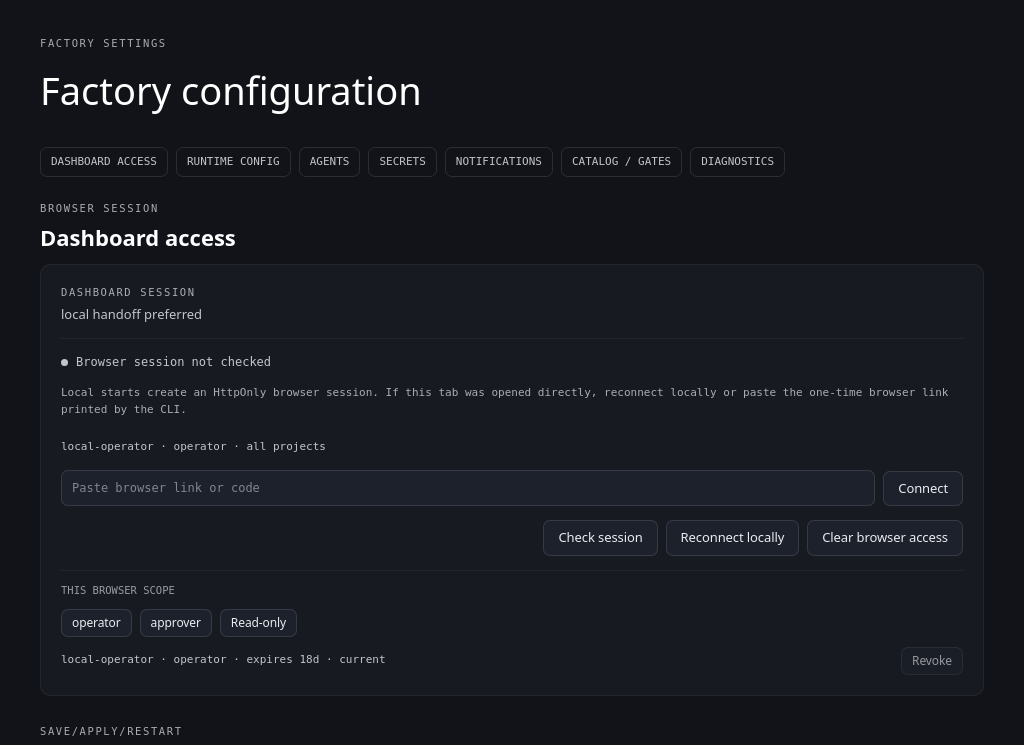
Test: Settings API access › connects from Settings with a one-time browser link
The width and height of the screenshot is (1024, 745).
Type "http://127.0.0.1:4173/welcome?pair=pair-code" into the field with test id "dashboard-pairing-code" at point(468, 488), box [61,470,875,506]
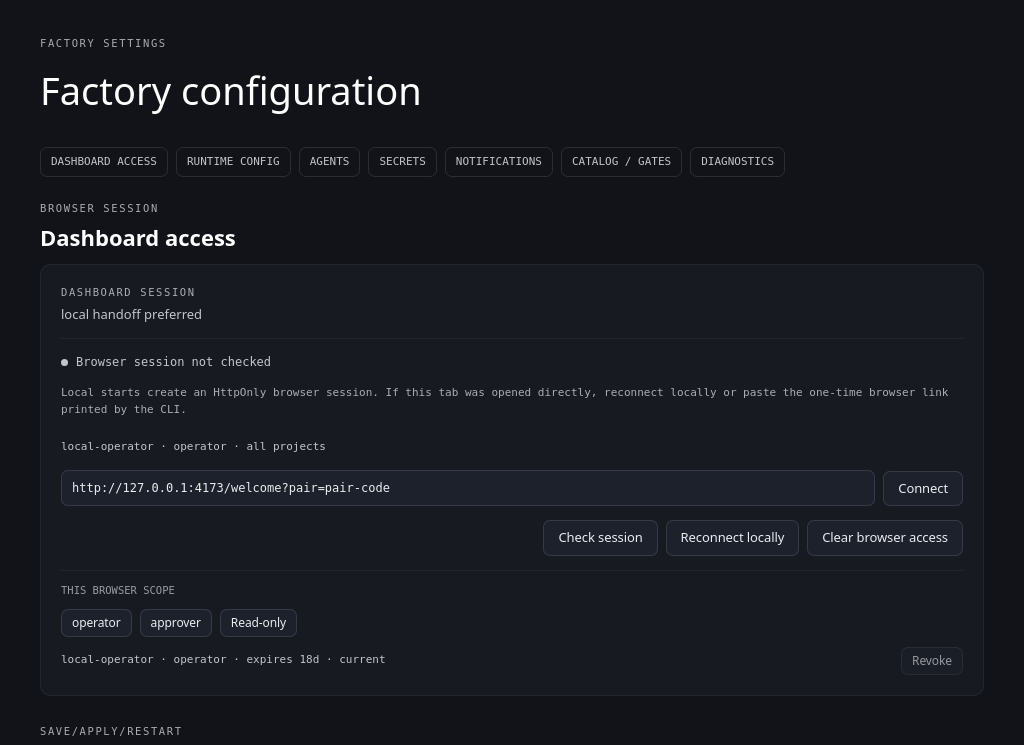
Click the button with test id "dashboard-pairing-submit" at point(923, 488), box [883,470,963,506]
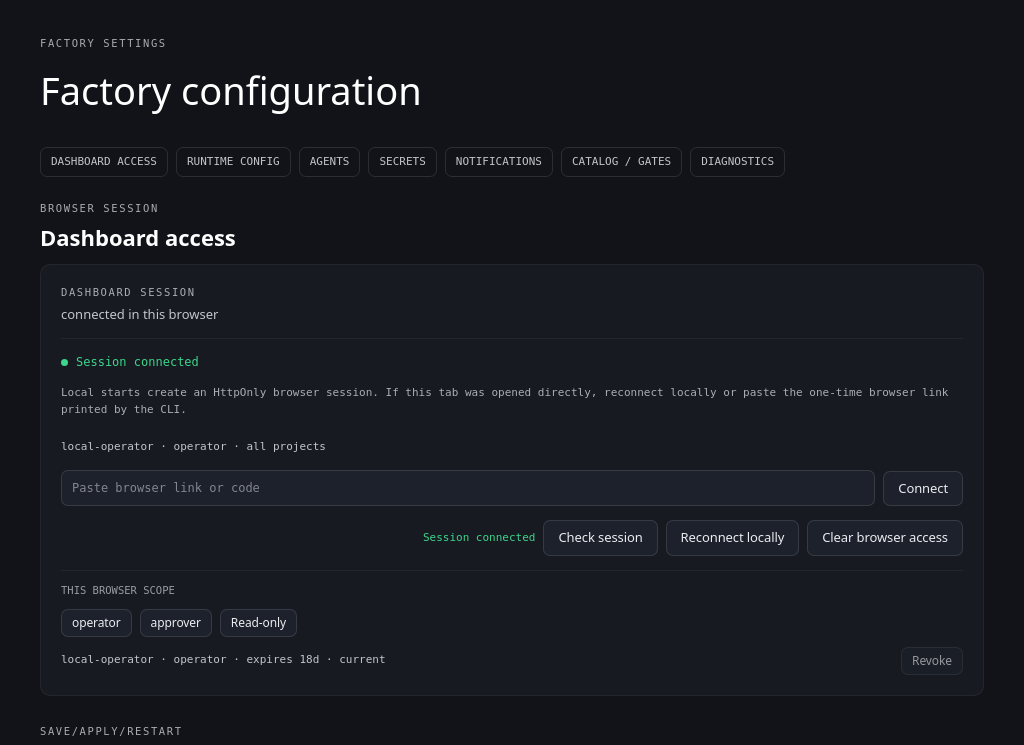
Result: the text with test id "operator-session-status" reads "Session connected" at [76,355,199,369]
